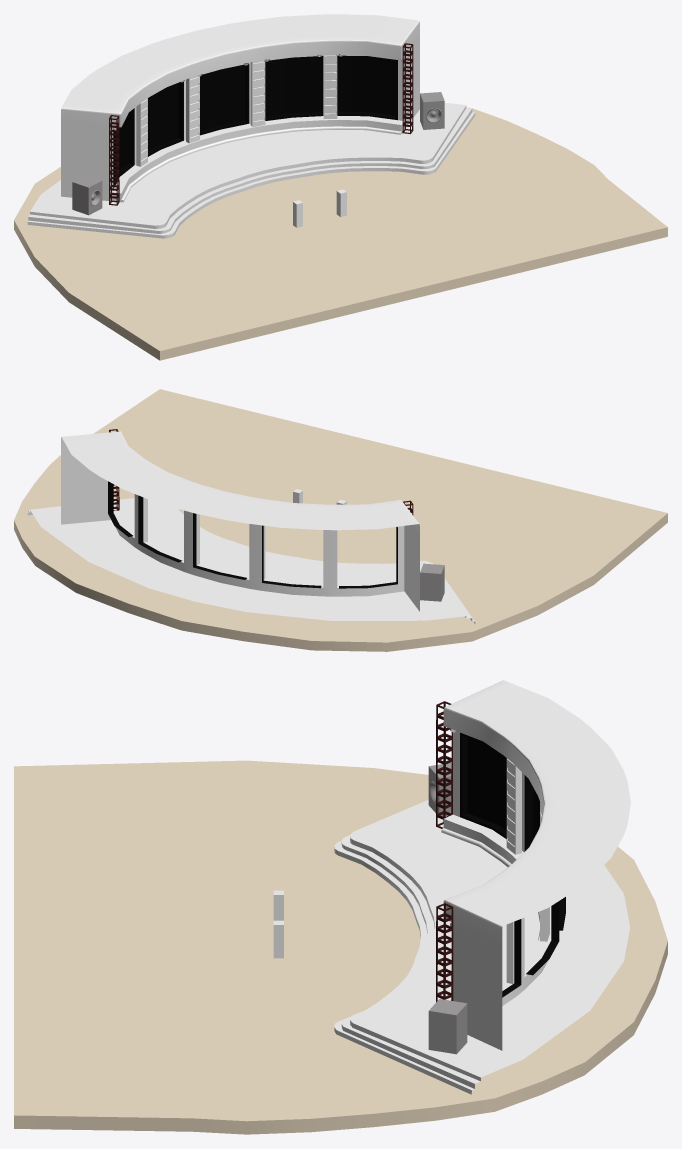
The model's file is Stage_Blockout_V2.fbx.
3 views of the same model, one above another, from view 1: azimuth 30°, elevation 25°; view 2: azimuth 150°, elevation 25°; view 3: azimuth 270°, elevation 25° (orthographic). The views are drawn at different scales.
Parts seen in each view (by area): view 1: Stage_Floor, Stage_Screens, Stage_Platform, Stage_Base, Stage_Column, Stage_Speakers, Stage_Metal_Frames, Character_Height_Ref; view 2: Stage_Floor, Stage_Screens, Stage_Platform, Stage_Base, Stage_Speakers, Stage_Column; view 3: Stage_Floor, Stage_Screens, Stage_Platform, Stage_Metal_Frames, Stage_Speakers, Stage_Base, Stage_Column, Character_Height_Ref.
Part boxes in pixels (x1,y1,x2,y2): Stage_Floor: [14, 107, 667, 360]; Stage_Screens: [61, 14, 419, 200]; Stage_Platform: [27, 102, 475, 238]; Stage_Base: [112, 116, 404, 202]; Stage_Column: [136, 54, 337, 166]; Stage_Speakers: [72, 92, 444, 215]; Stage_Metal_Frames: [109, 43, 413, 205]; Character_Height_Ref: [293, 189, 346, 227]; Stage_Floor: [14, 389, 667, 651]; Stage_Screens: [61, 431, 419, 620]; Stage_Platform: [27, 498, 475, 623]; Stage_Base: [113, 510, 404, 596]; Stage_Speakers: [420, 563, 444, 601]; Stage_Column: [143, 497, 337, 586]; Stage_Floor: [14, 760, 667, 1134]; Stage_Screens: [443, 680, 630, 1050]; Stage_Platform: [334, 800, 630, 1094]; Stage_Metal_Frames: [436, 701, 453, 1002]; Stage_Speakers: [428, 762, 467, 1054]; Stage_Base: [441, 814, 551, 1004]; Stage_Column: [506, 758, 549, 983]; Character_Height_Ref: [273, 890, 283, 958].
Bounding box in the file's own units: 62.62 × 12.25 × 47.99.
